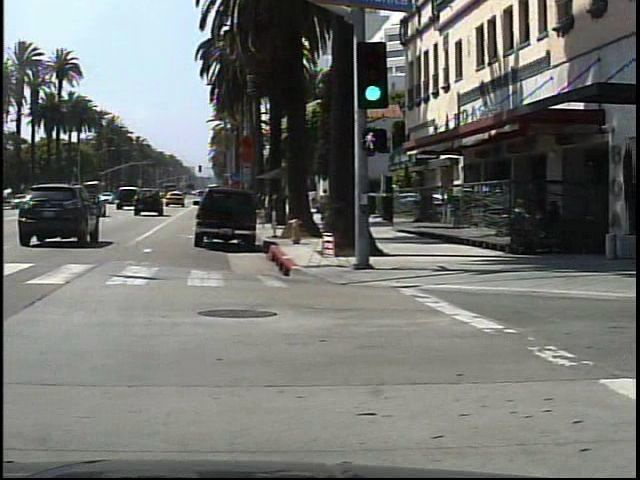person: (321, 184, 333, 226)
